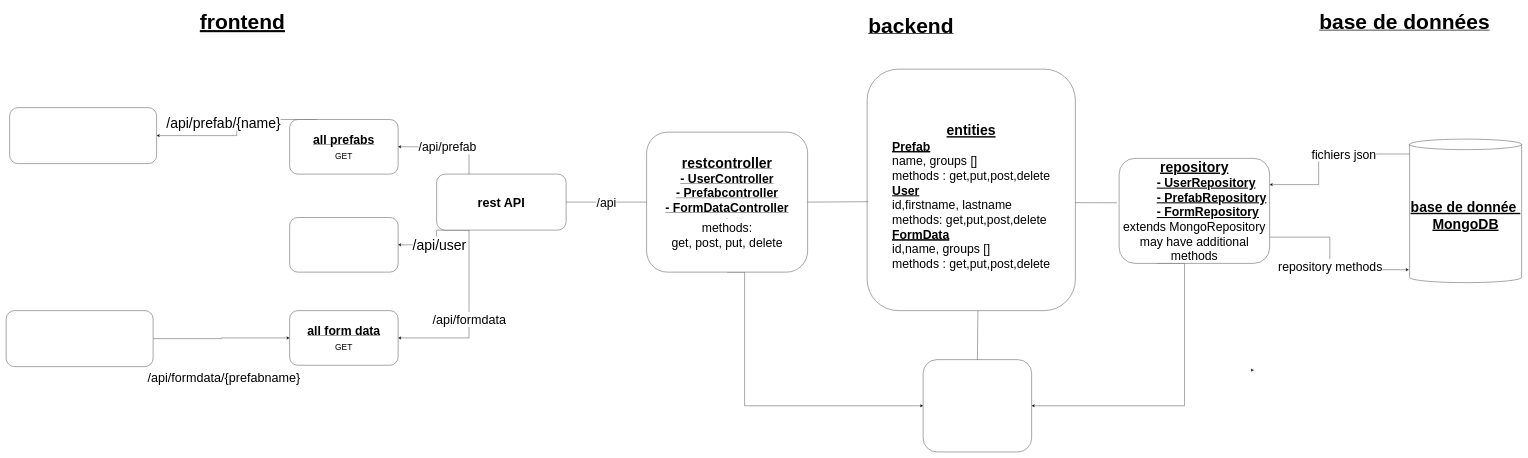
Image size: 1528x458. Some labels were removed from this diagram. The shapes that lost their labels are listed below. From the top down, each one's centre as x and y in pixels, then its label:
(83,135): one prefab GET POST PUT DELETE
(343,244): one user GET POST PUT DELETE
(79,338): form data of one prefab GET POST PUT DELETE
(977,405): services FormDataService UserService
